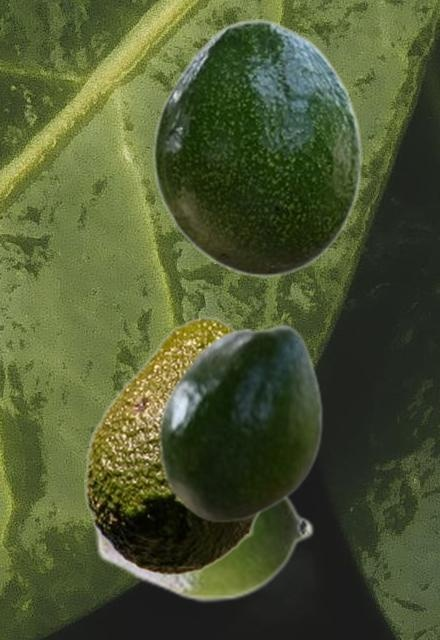avocado: (152, 19, 361, 277), (84, 316, 263, 576), (157, 323, 322, 522), (92, 496, 314, 603)
